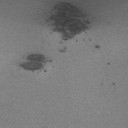iron sheet ash: (46, 2, 90, 40), (18, 54, 46, 72), (96, 44, 99, 48)
